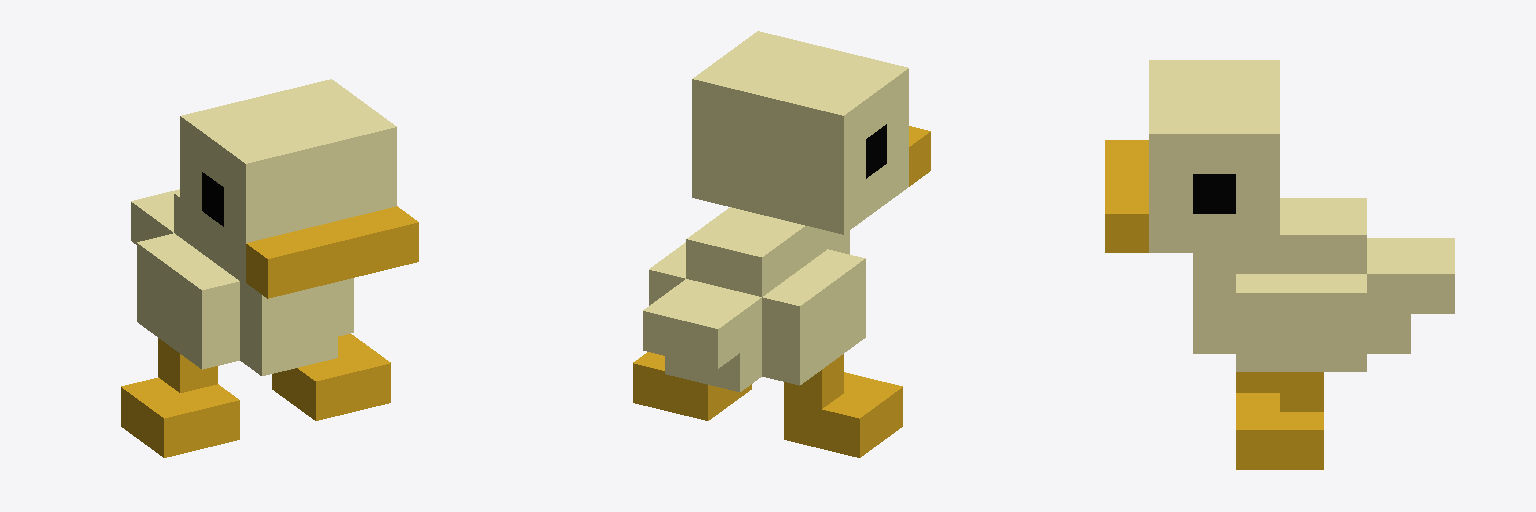
3 renders of one model, left to right at view 1: azimuth 30°, elevation 25°; view 2: azimuth 150°, elevation 25°; view 3: azimuth 270°, elevation 25°, orthographic.
Bounding box in the file's own units: 6 × 8 × 8.
1 materials, 1 textured.